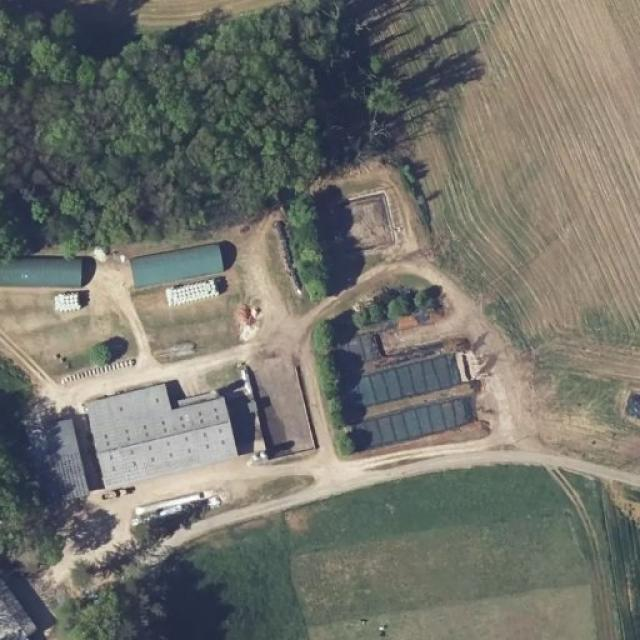ferme: (78, 380, 242, 486), (123, 228, 242, 307), (0, 244, 99, 316), (15, 430, 74, 486)
